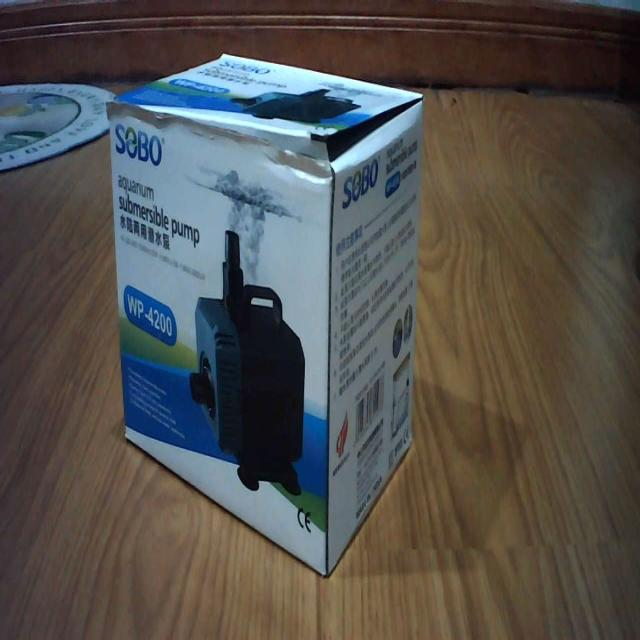SOBO_WP_4200: (106, 50, 428, 586)
